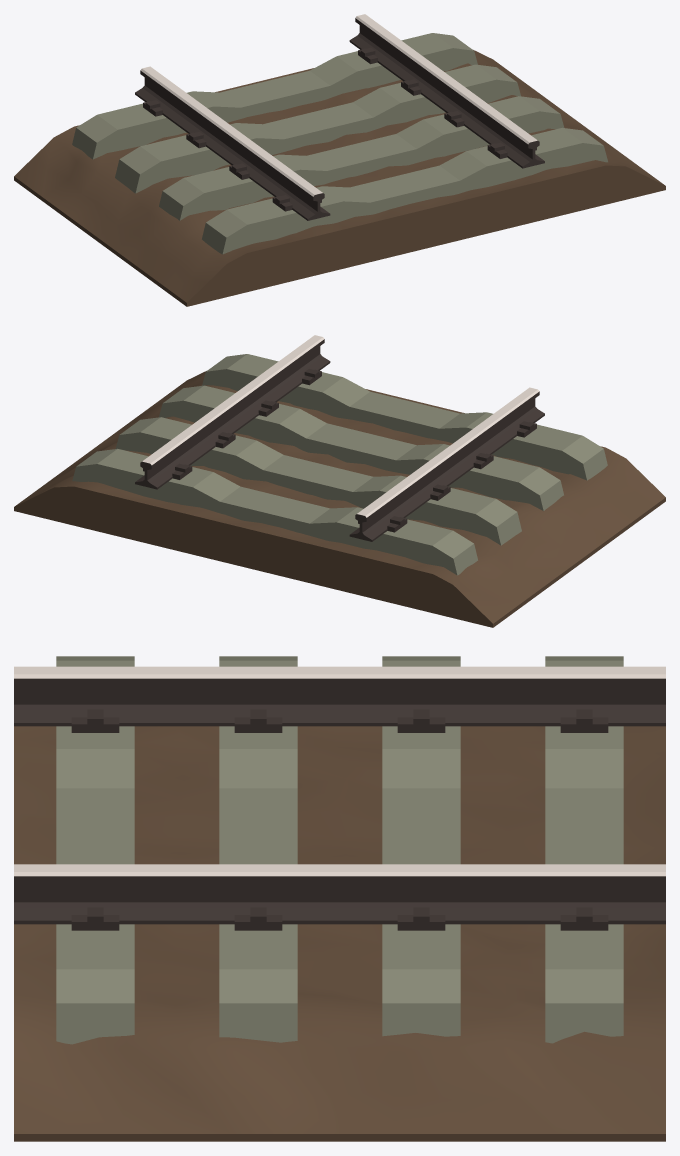
Rendered from track_close.fbx.
3 views of the same model, one above another, from view 1: azimuth 30°, elevation 25°; view 2: azimuth 150°, elevation 25°; view 3: azimuth 270°, elevation 25° (orthographic). The views are drawn at different scales.
Parts seen in each view (by area): view 1: p411_TrackClose.001; view 2: p411_TrackClose.001; view 3: p411_TrackClose.001.
Boxes of the visible parts, box(x1,y1,x2,y2) form: p411_TrackClose.001: box(14, 14, 665, 306); p411_TrackClose.001: box(14, 335, 665, 627); p411_TrackClose.001: box(14, 656, 665, 1141).
Bounding box in the file's own units: 3.2 × 0.515 × 2.
